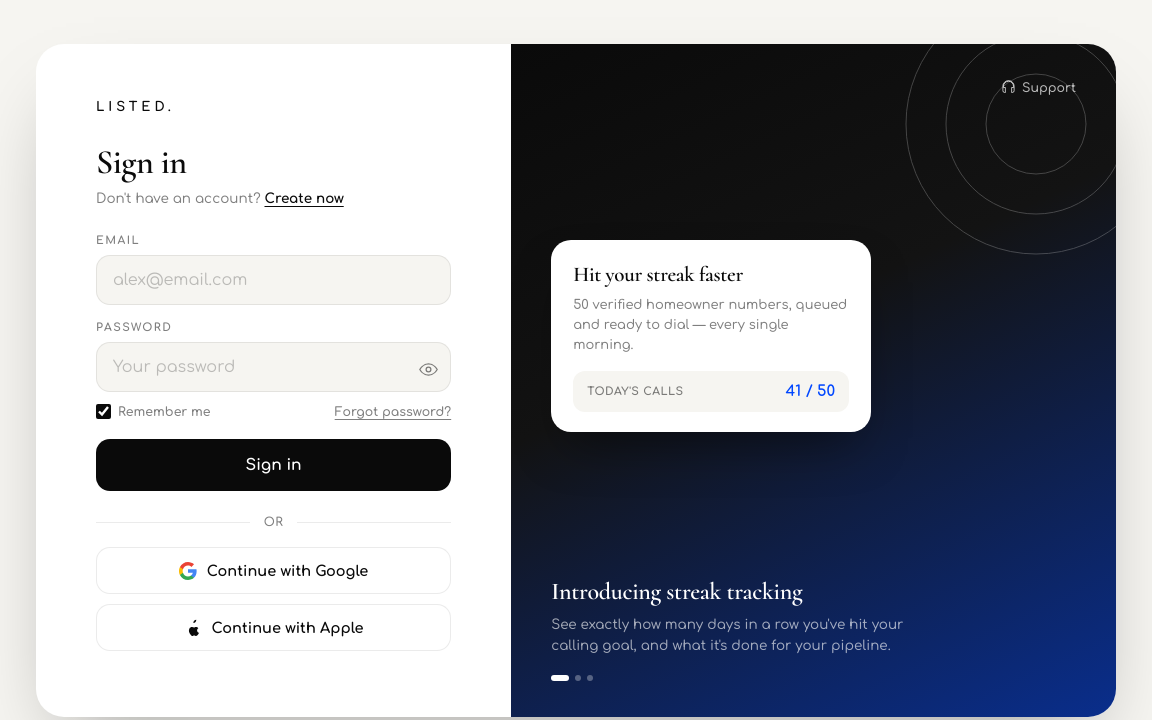
Login page › signs in with a trimmed email and goes to Today
Type "  alex@email.com " into the field labelled "Email" at (274, 280), box [96,255,451,305]
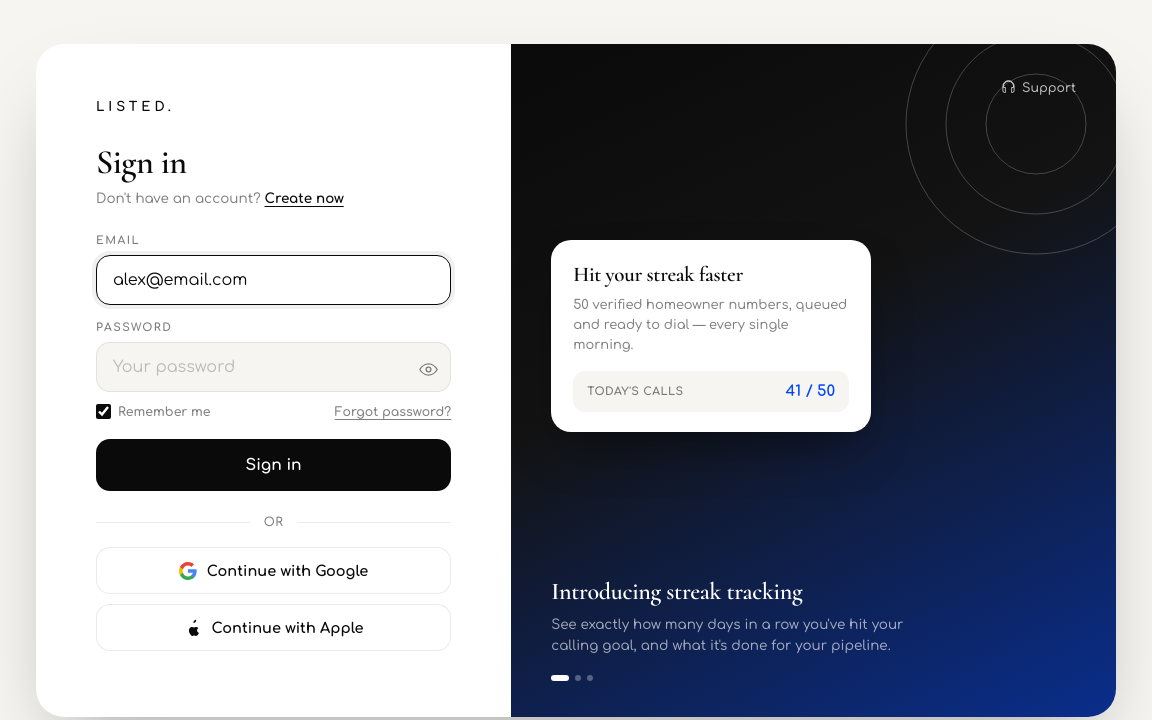
Type "hunter22" into the password field labelled "Password" at (274, 367), box [96,342,451,392]
Then press Enter
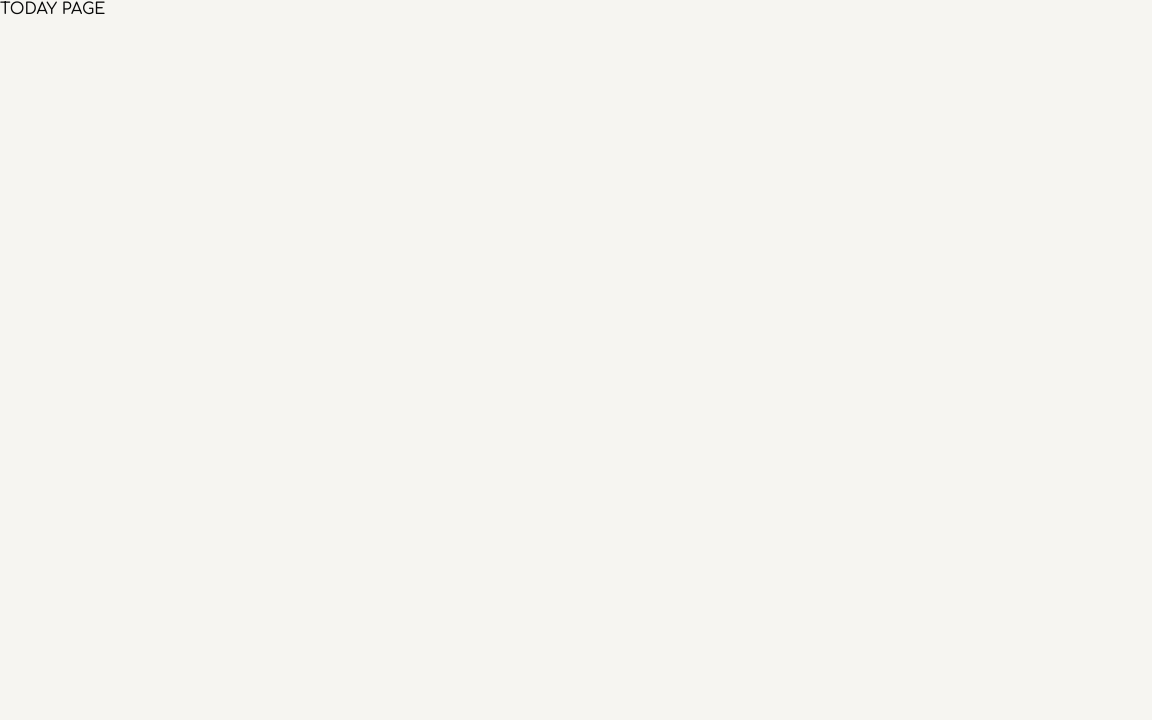
Now the text "TODAY PAGE" is shown, box [0,0,105,18]
